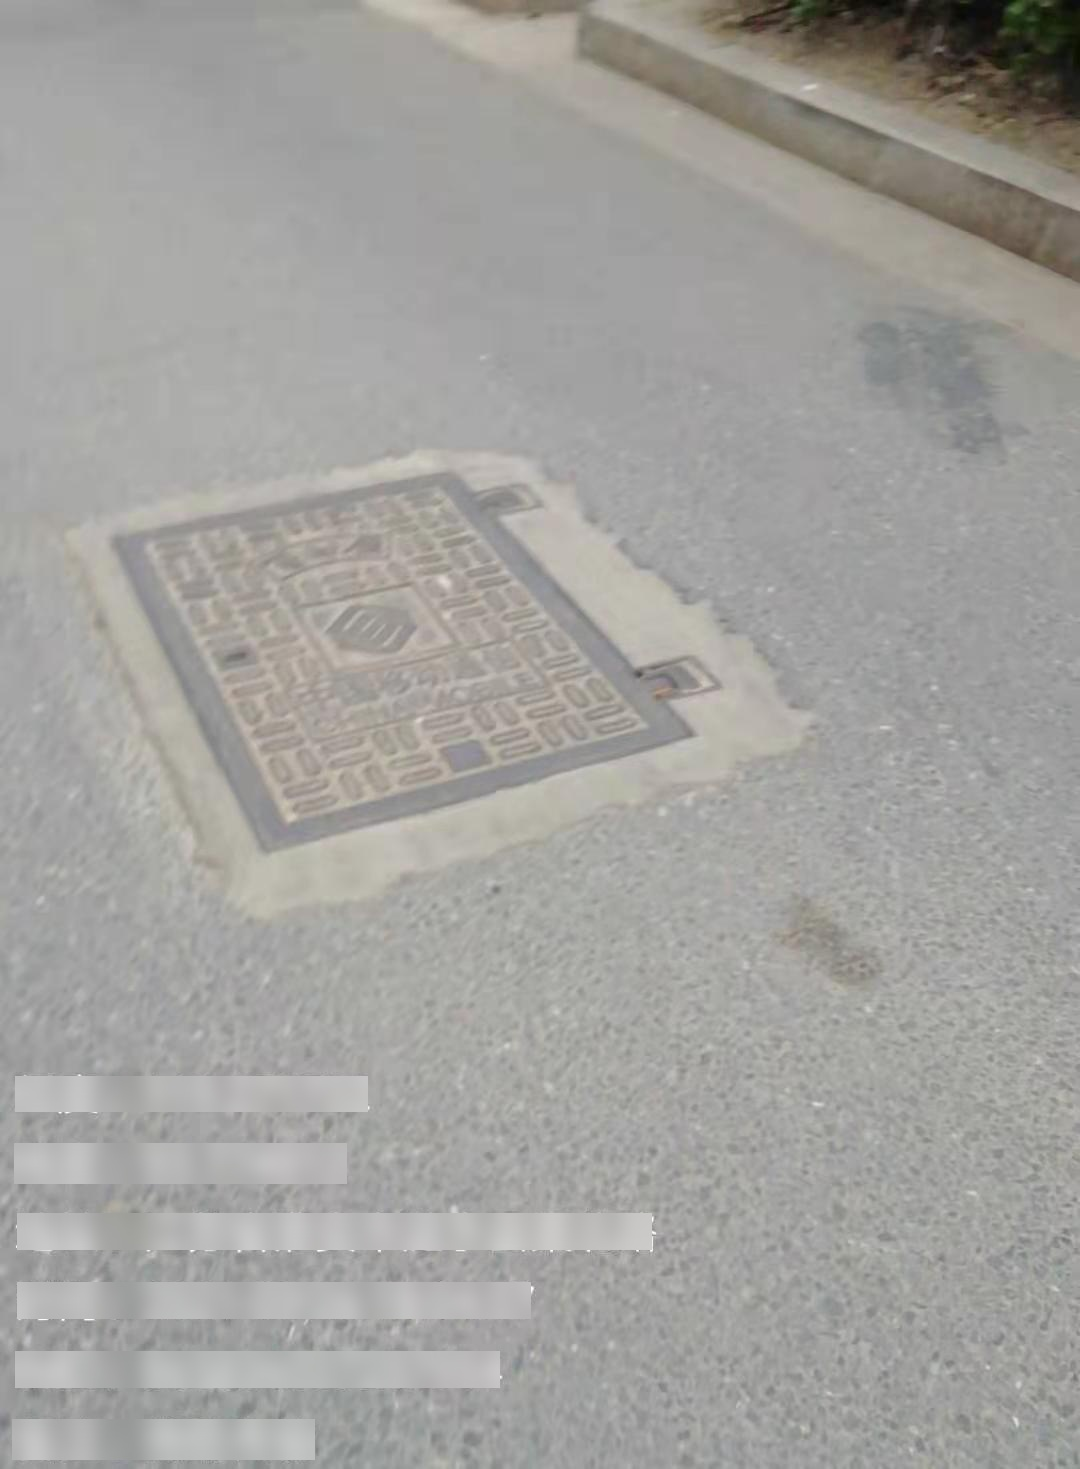well: (90, 463, 718, 861)
